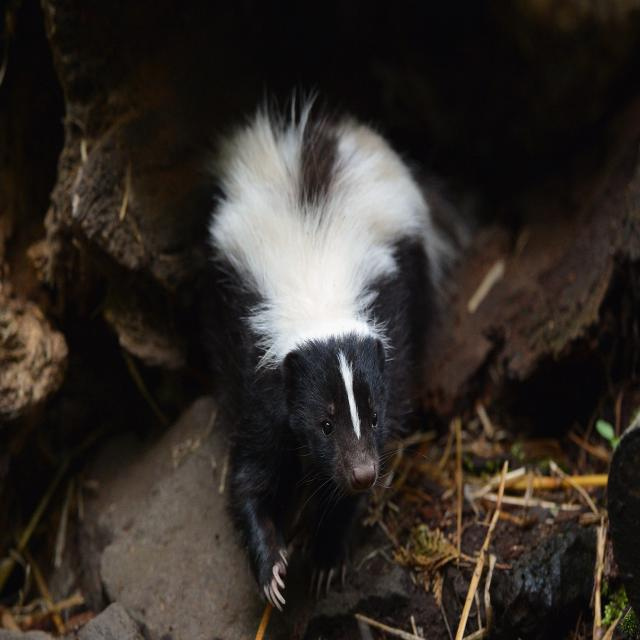Skunk: (194, 76, 466, 624)
